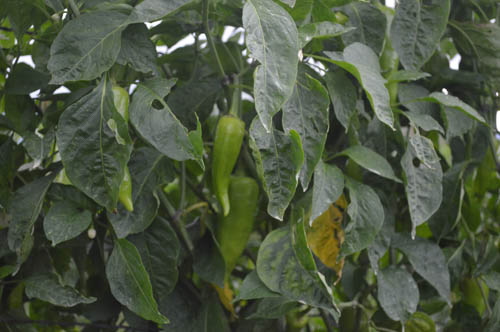ChiliPepper: (102, 86, 135, 212), (214, 178, 259, 270), (212, 115, 244, 218)
